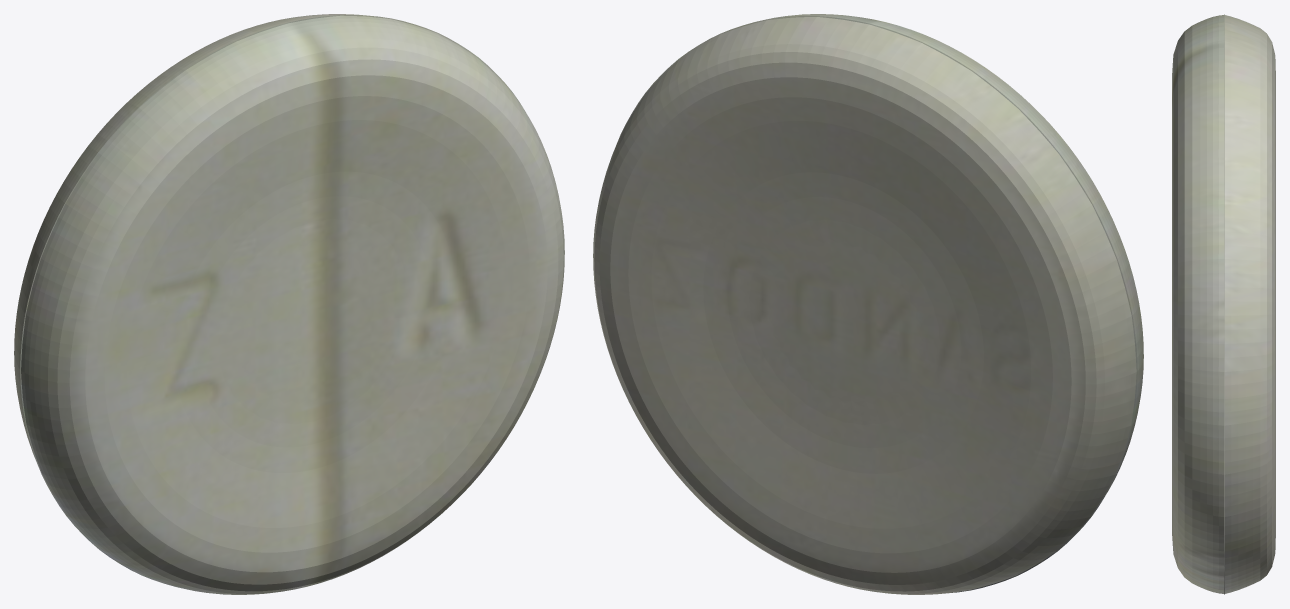
The model's file is 20140311GOPHDRGPT00630.fbx.
3 renders of one model, left to right at view 1: azimuth 30°, elevation 25°; view 2: azimuth 150°, elevation 25°; view 3: azimuth 270°, elevation 25°, orthographic. The views are drawn at different scales.
Parts seen in each view (by area): view 1: Circle.006; view 2: Circle.006; view 3: Circle.006.
Part boxes in pixels (x1,y1,x2,y2): Circle.006: [14, 14, 564, 594]; Circle.006: [593, 14, 1143, 594]; Circle.006: [1172, 14, 1275, 594].
Bounding box in the file's own units: 1.43 × 1.43 × 0.2553.
1 material, 1 textured.
